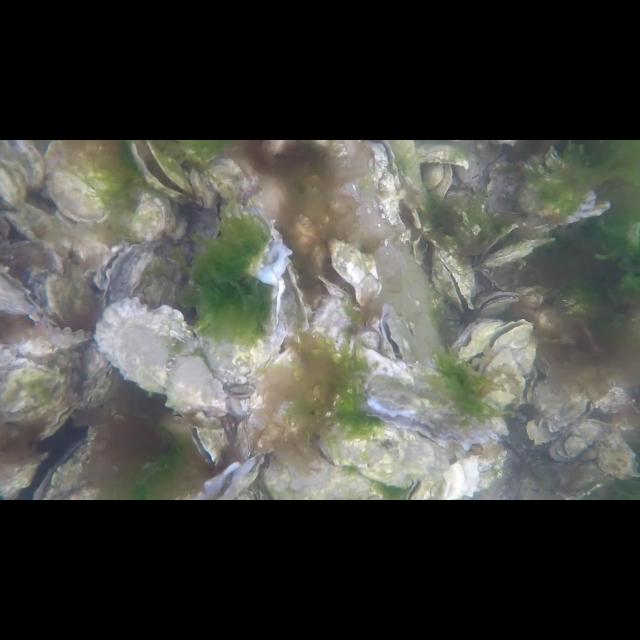Oyster-Closed: (95, 296, 232, 416), (321, 424, 451, 488), (42, 140, 130, 224), (247, 347, 306, 431), (0, 362, 78, 424), (8, 200, 76, 256), (0, 140, 46, 208), (43, 268, 99, 320), (484, 236, 558, 270), (313, 296, 351, 358), (126, 192, 170, 242), (388, 140, 424, 192), (40, 320, 94, 348), (356, 328, 382, 354)
Oyster-Open: (366, 364, 502, 450), (204, 156, 294, 284), (32, 437, 114, 499), (366, 140, 422, 230), (316, 236, 384, 310), (530, 366, 592, 432), (130, 140, 194, 198), (192, 450, 266, 500), (476, 318, 534, 376), (434, 249, 482, 311), (276, 257, 310, 335), (449, 318, 506, 360), (95, 240, 141, 292), (0, 261, 44, 315), (380, 304, 414, 362), (39, 401, 81, 443), (188, 421, 228, 464), (478, 289, 522, 313)
